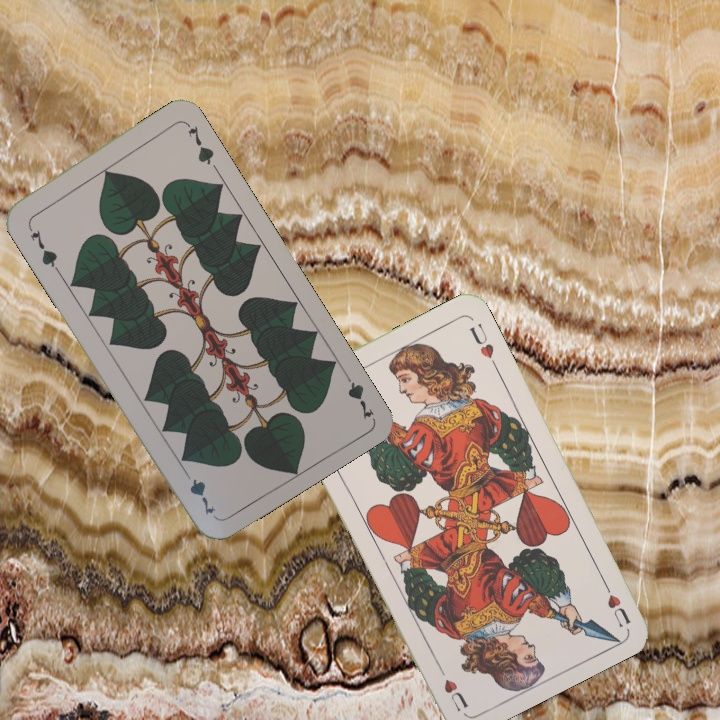G7: (338, 365, 377, 422), (26, 226, 61, 273)
HU: (598, 574, 633, 630)
